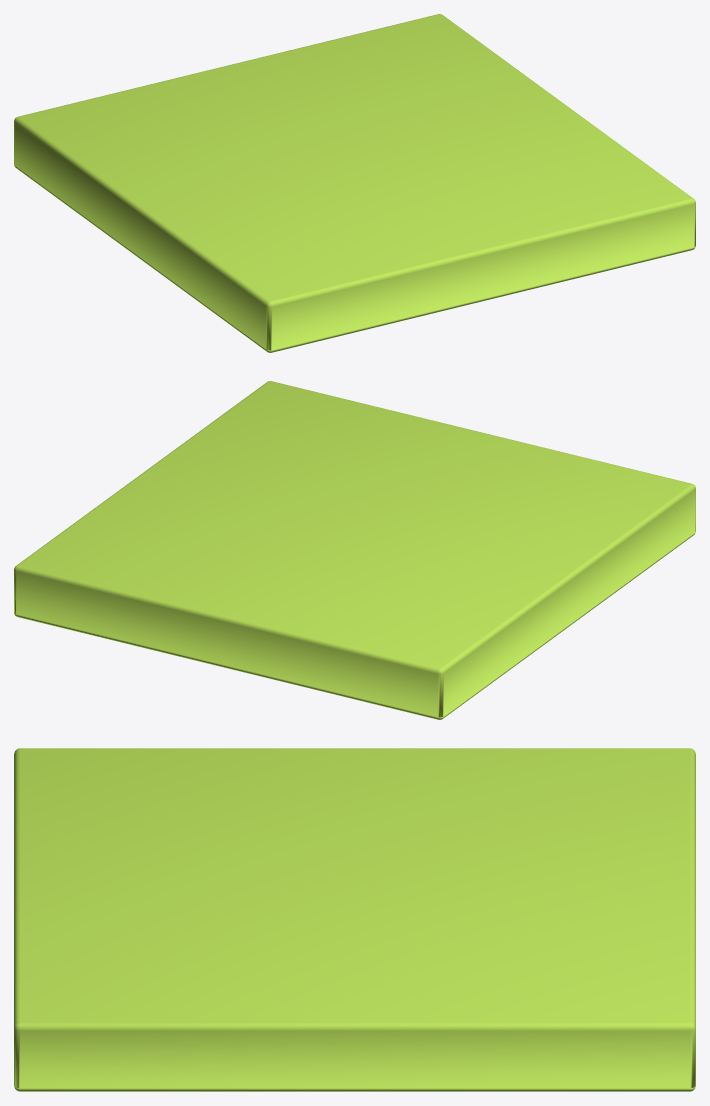
Rendered from ground main.fbx.
The picture shows the model from 3 angles, top to bottom: view 1: azimuth 30°, elevation 25°; view 2: azimuth 150°, elevation 25°; view 3: azimuth 270°, elevation 25°; orthographic projection. The views are drawn at different scales.
Visible parts, largest first — view 1: Plane.010; view 2: Plane.010; view 3: Plane.010.
Boxes of the visible parts, x1=… form: Plane.010: x1=14, y1=14, x2=695, y2=352; Plane.010: x1=14, y1=381, x2=695, y2=719; Plane.010: x1=14, y1=748, x2=695, y2=1091.
Bounding box in the file's own units: 4561 × 523 × 4710.
